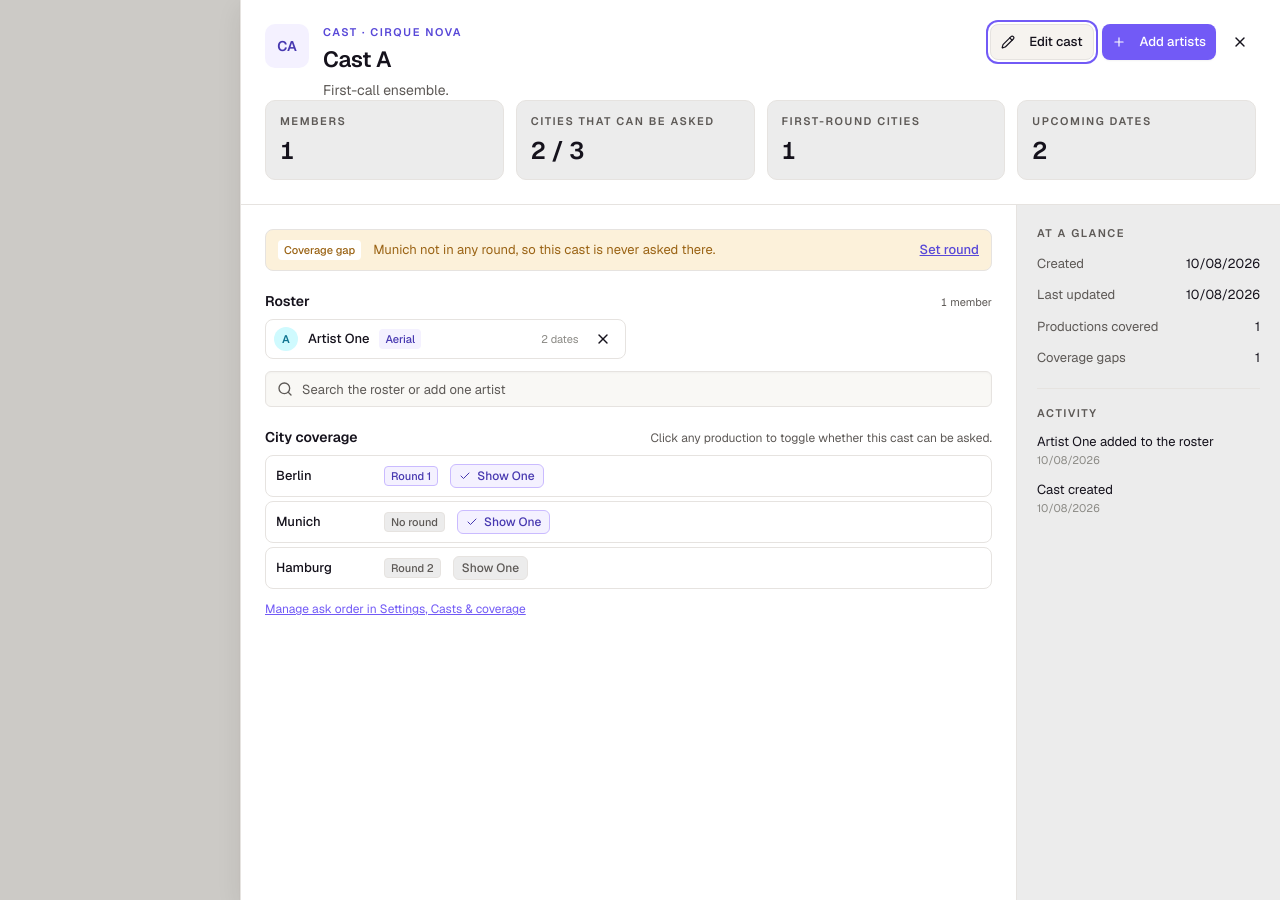
it: CastDetailsSheet (design 2a) › keeps a visible close control in edit mode
This screenshot has width=1280, height=900.
Expected: the button "Artist One" is shown, [308,329,370,349]
Click the button "Edit cast" at (1042, 42), box [990,24,1094,60]
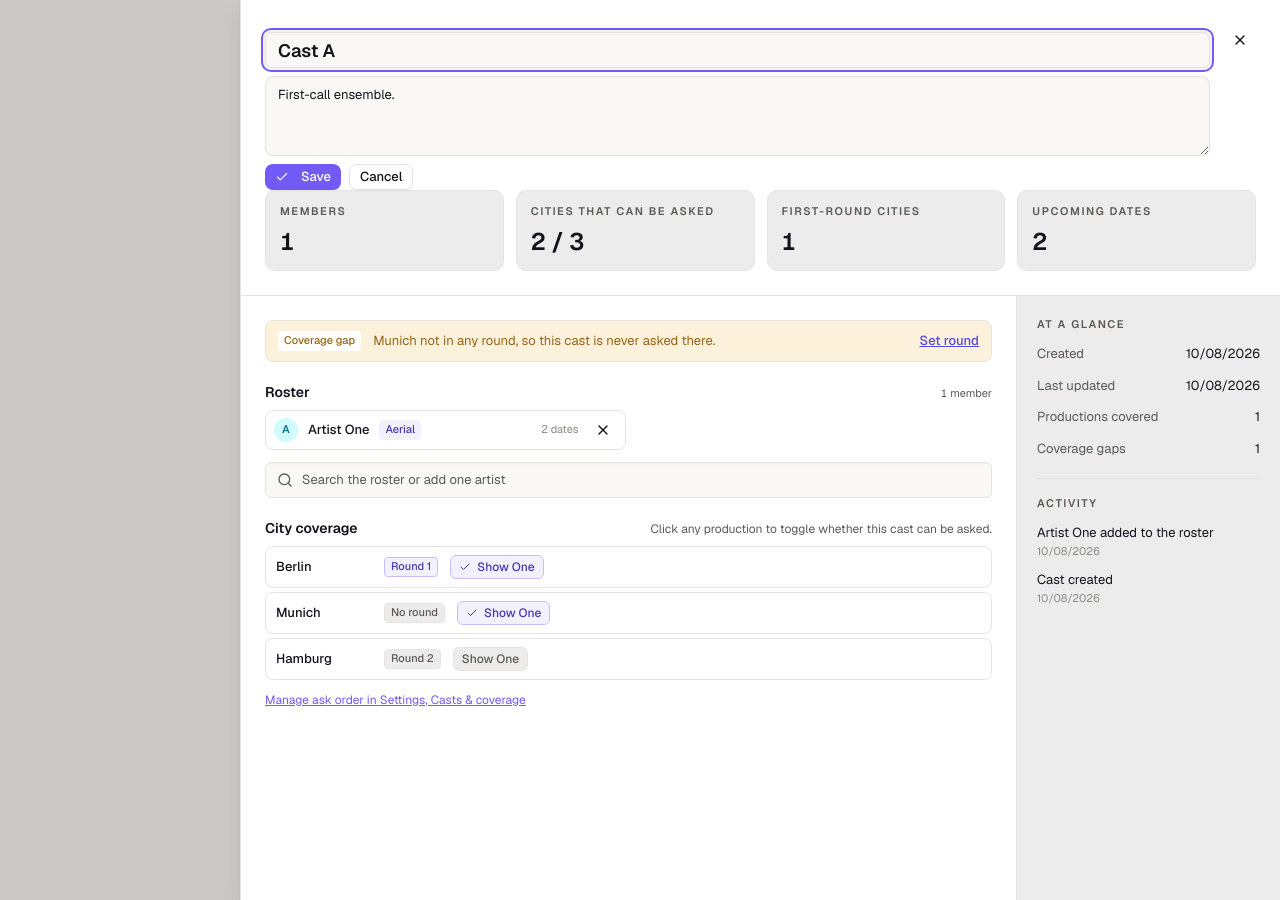
Expected: the button named "Close" is shown, [1224,24,1256,56]
Now the field with placeholder "Cast name" is shown, box [265,32,1210,68]
